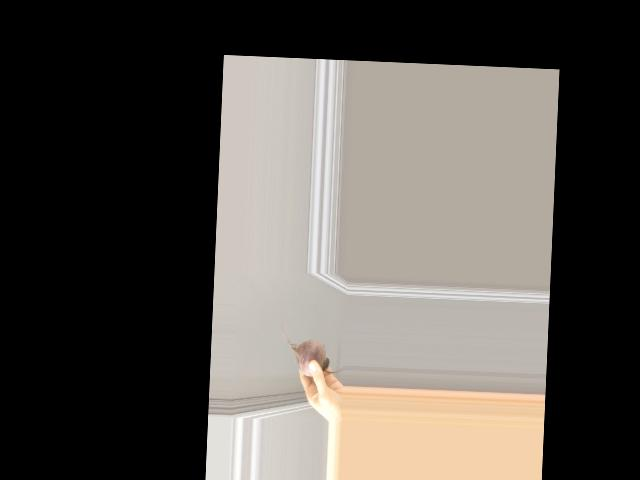beet: (278, 319, 347, 377)
